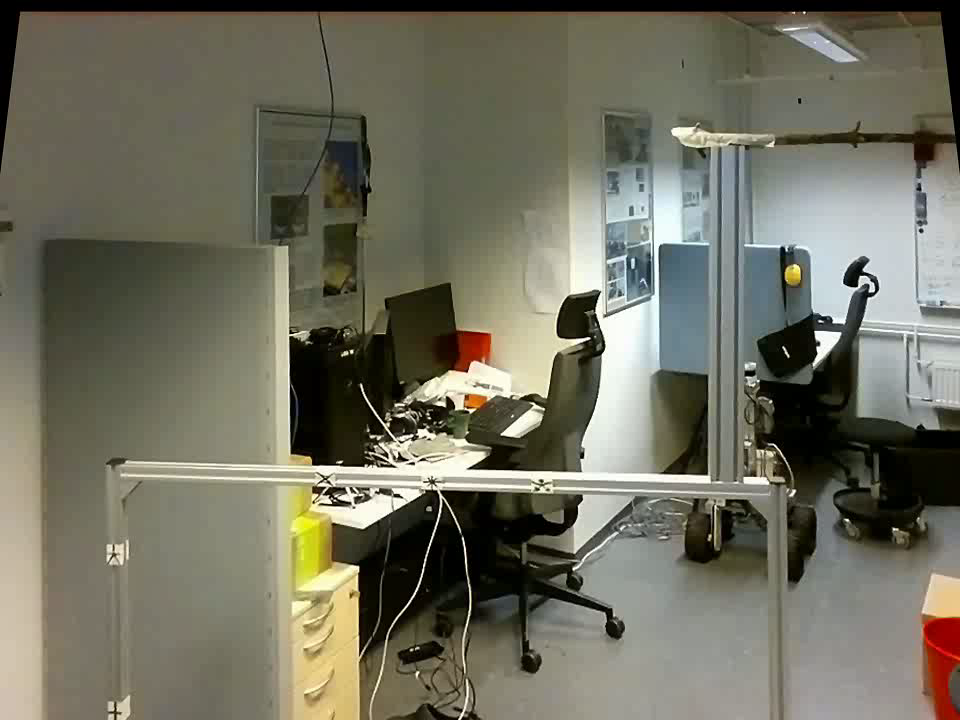aluminum_frame: (126, 457, 770, 500), (704, 151, 750, 482), (98, 452, 139, 718), (762, 471, 798, 717), (908, 110, 925, 297), (911, 289, 956, 313), (908, 102, 956, 117)
branch: (780, 116, 952, 150)
